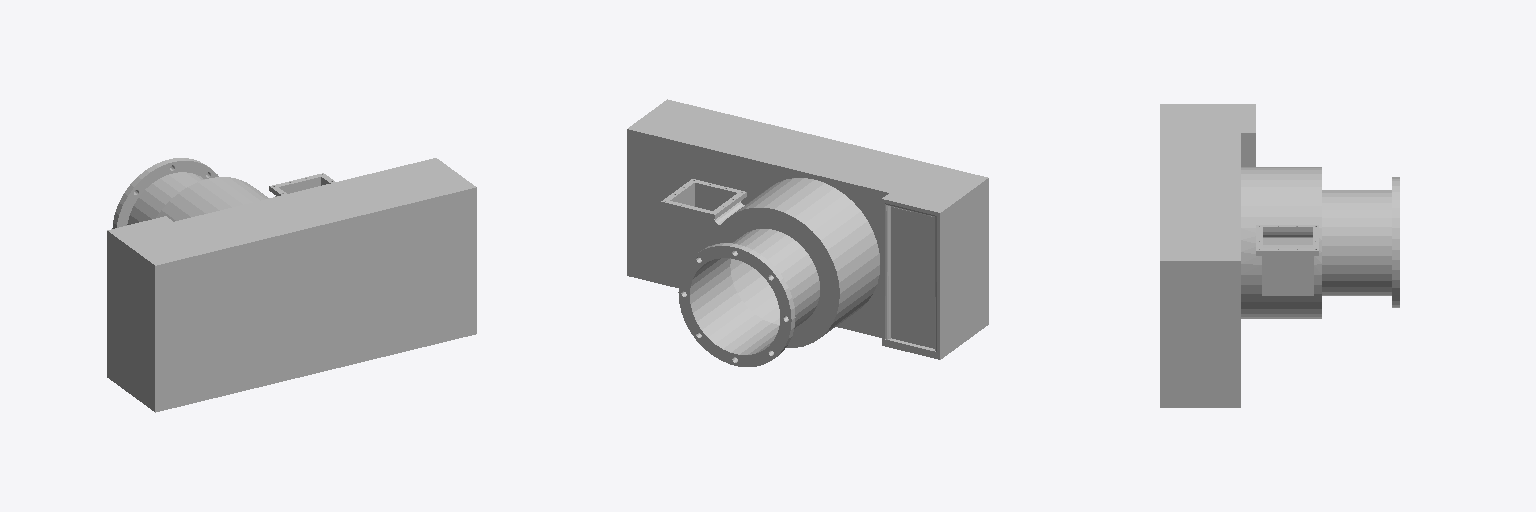
The model's file is cover belakang.obj.
3 renders of one model, left to right at view 1: azimuth 30°, elevation 25°; view 2: azimuth 150°, elevation 25°; view 3: azimuth 270°, elevation 25°, orthographic.
Parts seen in each view (by area): view 1: assembly_full_cover_belakang_motor.001; view 2: assembly_full_cover_belakang_motor.001; view 3: assembly_full_cover_belakang_motor.001.
Boxes of the visible parts, box(x1,y1,x2,y2) form: assembly_full_cover_belakang_motor.001: box(107, 158, 476, 412); assembly_full_cover_belakang_motor.001: box(627, 99, 988, 366); assembly_full_cover_belakang_motor.001: box(1160, 104, 1399, 407).
Bounding box in the file's own units: 68.62 × 29.96 × 44.46.